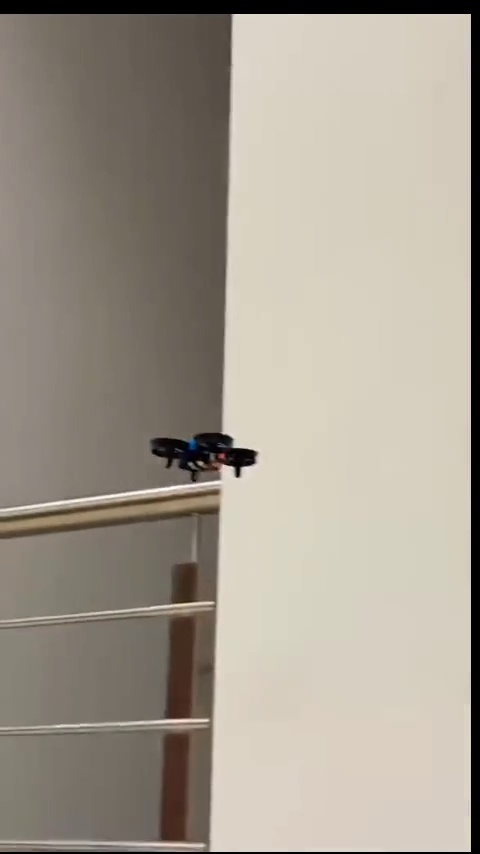drone: (149, 430, 258, 484)
